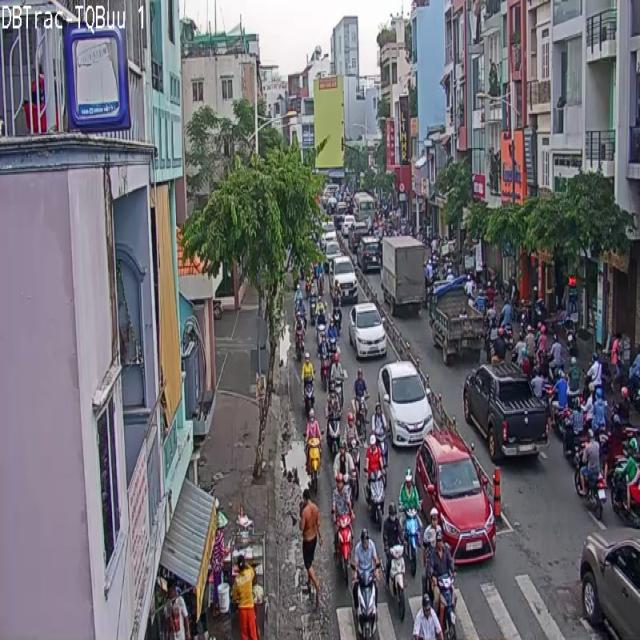car: (398, 469, 422, 575), (350, 529, 379, 609), (366, 435, 384, 525), (386, 543, 403, 619)
traffic-light: (415, 431, 495, 563), (378, 363, 433, 445), (349, 304, 386, 358)
